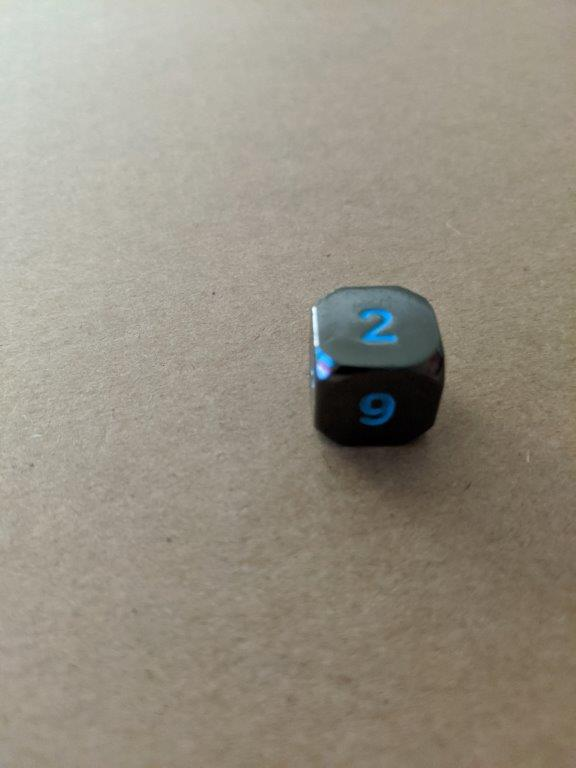d6-2: (313, 286, 446, 446)
